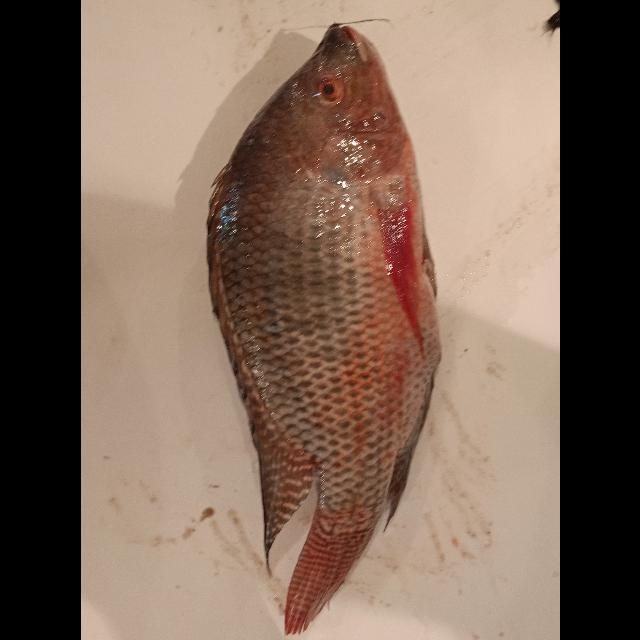Tilapia: (207, 24, 443, 630)
